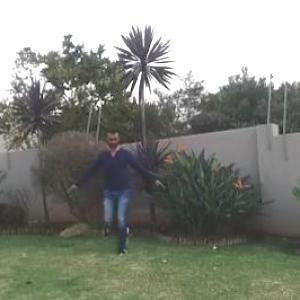land: (69, 120, 177, 257)
